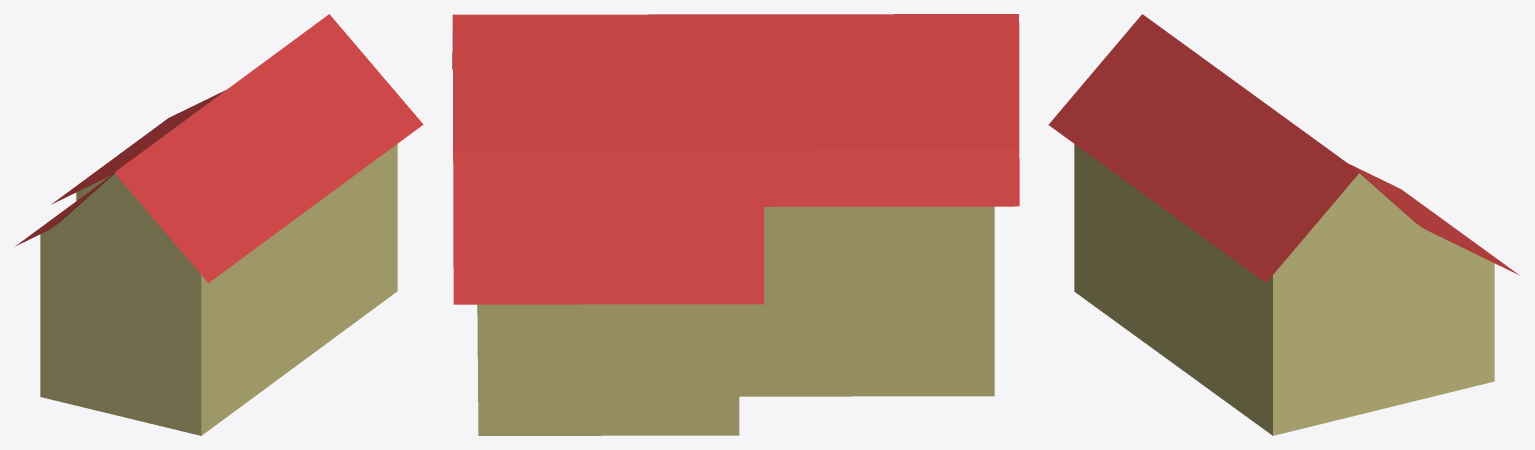
3 renders of one model, left to right at view 1: azimuth 30°, elevation 25°; view 2: azimuth 150°, elevation 25°; view 3: azimuth 270°, elevation 25°, orthographic. The views are drawn at different scales.
Bounding box in the file's own units: 25.57 × 24.8 × 14.58.
